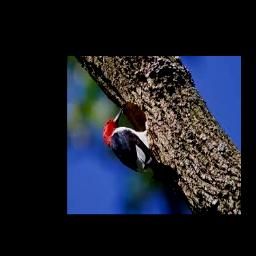Woodpecker: (103, 108, 179, 192)
